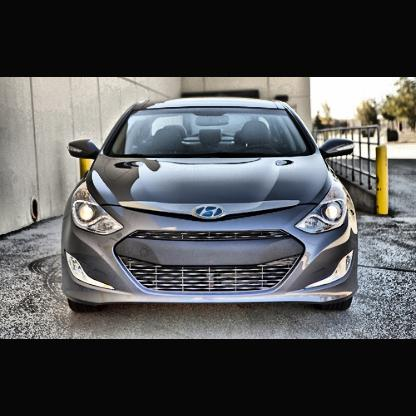Hyundai Sonata Hybrid Sedan 2012: (62, 99, 359, 311)
